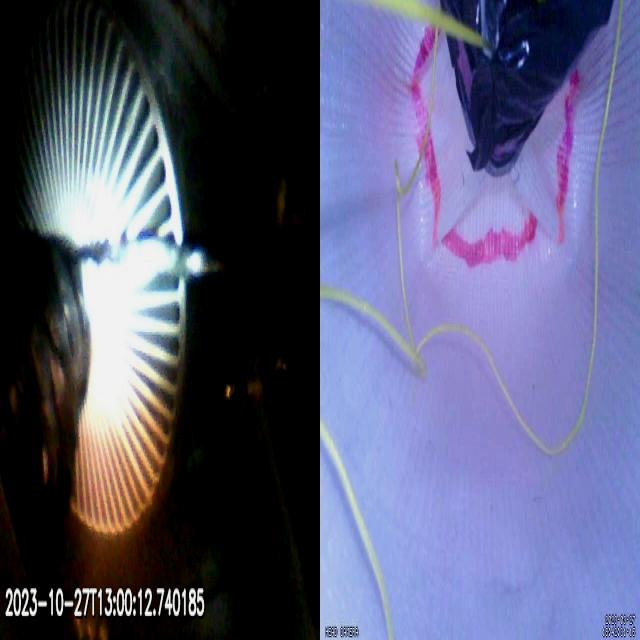red-circle: (412, 26, 579, 264)
